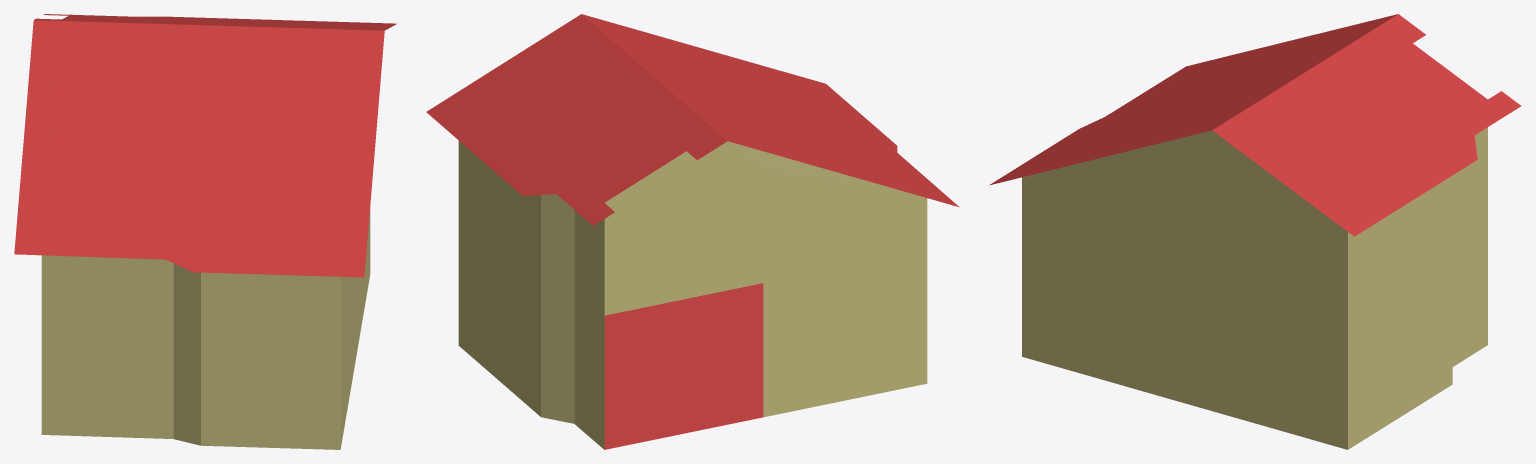
3 renders of one model, left to right at view 1: azimuth 30°, elevation 25°; view 2: azimuth 150°, elevation 25°; view 3: azimuth 270°, elevation 25°, orthographic. The views are drawn at different scales.
Size of the model in its own units: 21.23 by 21.97 by 13.32.
